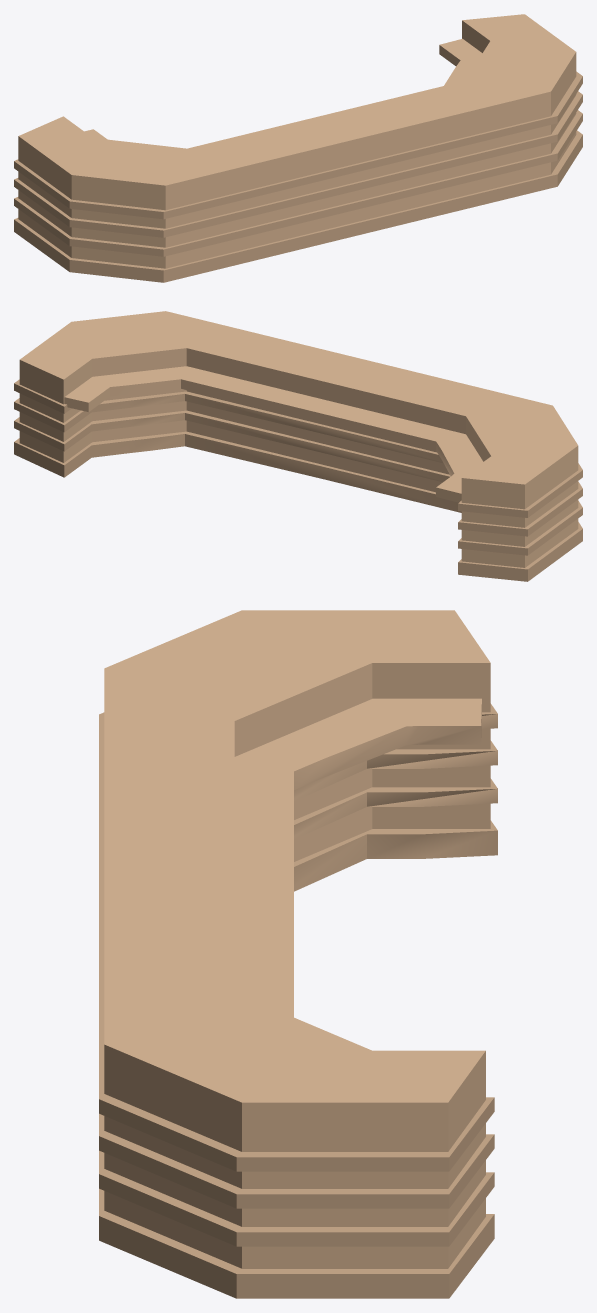
The model's file is stand.fbx.
3 views of the same model, one above another, from view 1: azimuth 30°, elevation 25°; view 2: azimuth 150°, elevation 25°; view 3: azimuth 270°, elevation 25° (orthographic). The views are drawn at different scales.
Parts seen in each view (by area): view 1: Boole_6; view 2: Boole_6; view 3: Boole_6.
Boxes of the visible parts, <box> form: Boole_6: <box>14,14,582,282</box>; Boole_6: <box>14,311,582,581</box>; Boole_6: <box>99,610,497,1298</box>.
Size of the model in its own units: 233 by 41.36 by 78.4.
